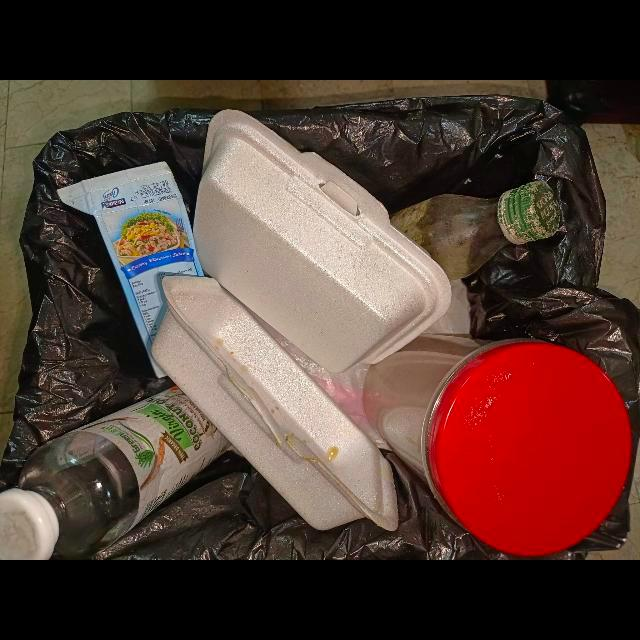glass_bottle: (390, 180, 566, 281)
plastic_bottle: (0, 387, 231, 560)
plastic_container: (362, 334, 633, 558)
